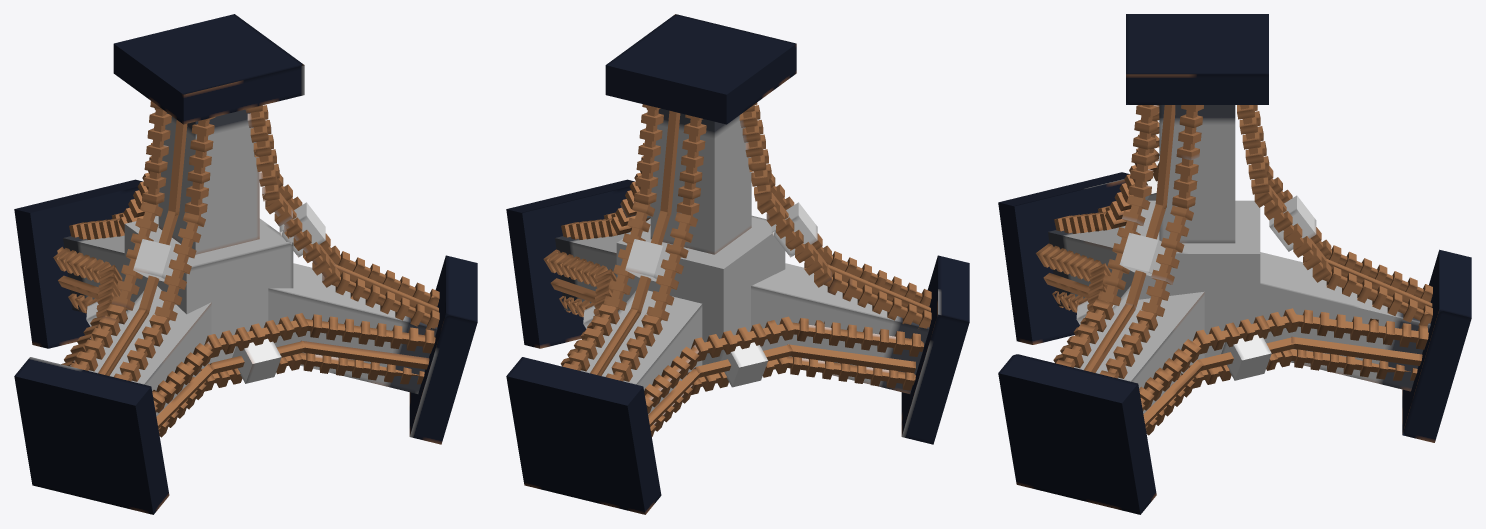
Rendered from dematerialization_circuit_system.obj.
3 views of the same model, side by side, from view 1: azimuth 30°, elevation 25°; view 2: azimuth 150°, elevation 25°; view 3: azimuth 270°, elevation 25° (orthographic). The views are drawn at different scales.
Parts seen in each view (by area): view 1: cube_7, cube_9, cube_1, cube_6, cube_2, cube_8, cube_5, cube_4, cube_3, cube_72, cube_70, cube_229 (+12 smaller); view 2: cube_6, cube_9, cube_8, cube_2, cube_1, cube_4, cube_7, cube_3, cube_5, cube_128, cube_126, cube_13 (+13 smaller); view 3: cube_8, cube_9, cube_7, cube_1, cube_3, cube_6, cube_2, cube_5, cube_4, cube_15, cube_17, cube_281 (+13 smaller).
Boxes of the visible parts, x1,y1,x2,y2 form: cube_7: [14, 357, 169, 514]; cube_9: [113, 14, 304, 124]; cube_1: [124, 216, 293, 362]; cube_6: [14, 179, 142, 348]; cube_2: [158, 109, 259, 254]; cube_8: [409, 255, 477, 444]; cube_5: [268, 263, 437, 393]; cube_4: [88, 286, 211, 416]; cube_3: [63, 235, 124, 312]; cube_72: [300, 340, 429, 369]; cube_70: [232, 338, 281, 383]; cube_229: [133, 239, 177, 281]; cube_6: [506, 357, 661, 514]; cube_9: [605, 14, 796, 124]; cube_8: [506, 179, 634, 348]; cube_2: [650, 108, 751, 254]; cube_1: [616, 215, 785, 365]; cube_4: [751, 263, 929, 393]; cube_7: [901, 255, 969, 444]; cube_3: [580, 290, 702, 414]; cube_5: [555, 232, 630, 312]; cube_128: [787, 344, 915, 373]; cube_126: [720, 342, 768, 387]; cube_13: [625, 239, 669, 281]; cube_8: [998, 354, 1156, 514]; cube_9: [1126, 14, 1268, 104]; cube_7: [998, 172, 1129, 344]; cube_1: [1134, 200, 1260, 357]; cube_3: [1260, 252, 1430, 391]; cube_6: [1402, 249, 1471, 442]; cube_2: [1159, 105, 1235, 243]; cube_5: [1074, 286, 1204, 413]; cube_4: [1048, 226, 1134, 308]; cube_15: [1291, 336, 1422, 365]; cube_17: [1221, 334, 1271, 380]; cube_281: [1119, 233, 1165, 276].
Size of the model in its own units: 4.06 by 3.02 by 3.52.
